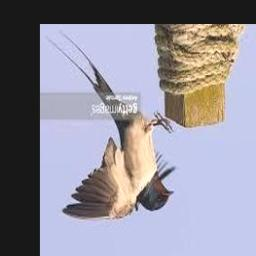Swallow: (46, 34, 176, 220)
